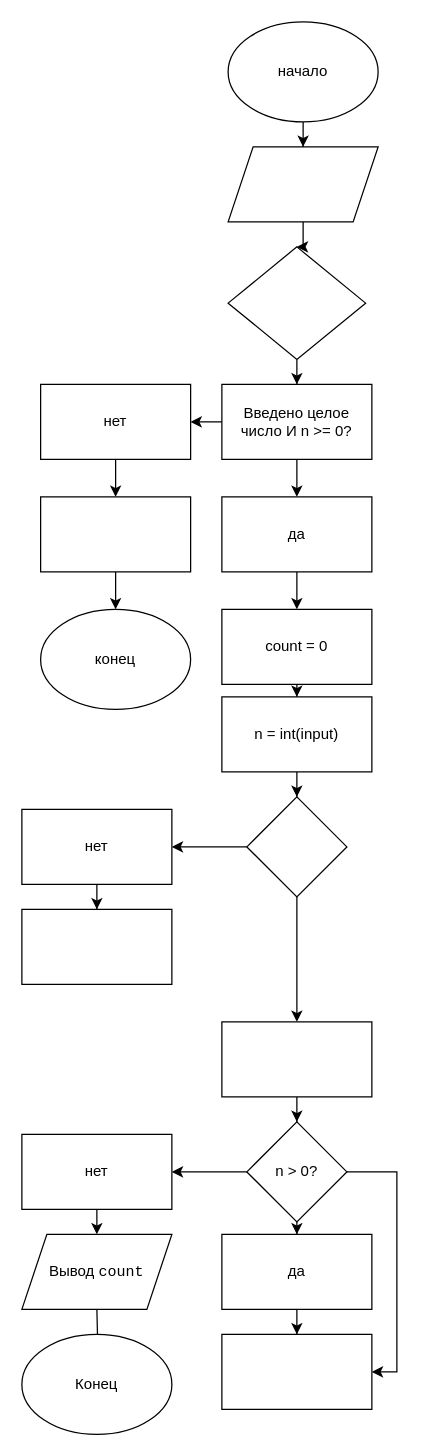
Image size: 429x1456. Some labels were removed from this diagram. The centre of each missing label's shape, as x and y in pixels:
"count = 1" goes at point 296,1059.
"n = n / 10 count = count + 1" goes at point 296,1371.
"n == 0?" goes at point 296,846.
"Входной ввод" goes at point 302,184.
"вывод ошибки" goes at point 115,534.
"переходим к циклу" goes at point 96,946.
"Проверка ввода" goes at point 296,302.
